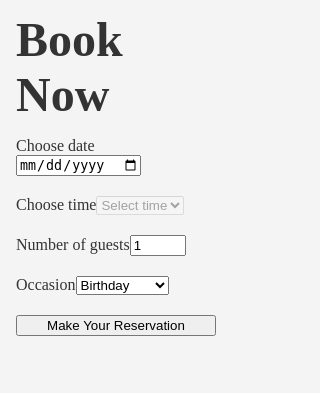
Scenario: BookingForm Validation › shows validation errors when submitting an empty form
Click the button "Make Your Reservation" at (116, 326), box 16,315 -> 216,336
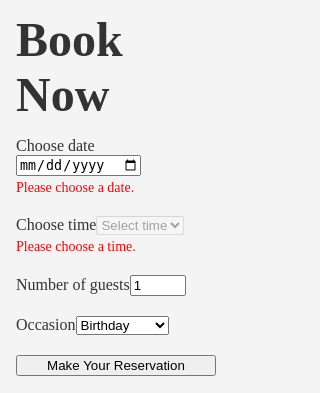
Now the text "Please choose a date." is shown, box 16,180 -> 134,195
Now the text "Please choose a time." is shown, box 16,239 -> 136,254
